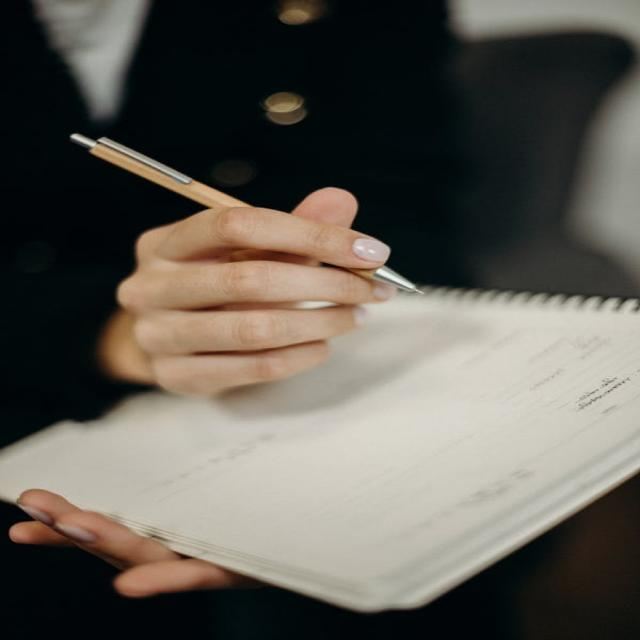pen: (27, 102, 455, 310)
